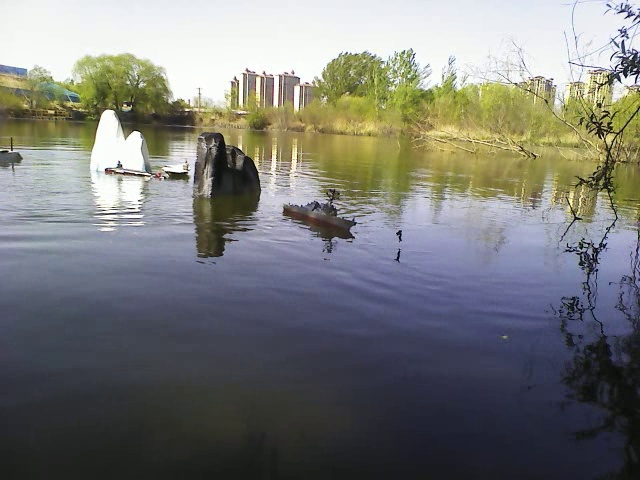aircraft_carrier: (163, 154, 194, 180)
boat: (2, 133, 27, 164)
iceberg: (88, 101, 153, 171)
rock: (190, 126, 267, 202)
submarine: (105, 162, 161, 181)
warship: (281, 191, 360, 235)
